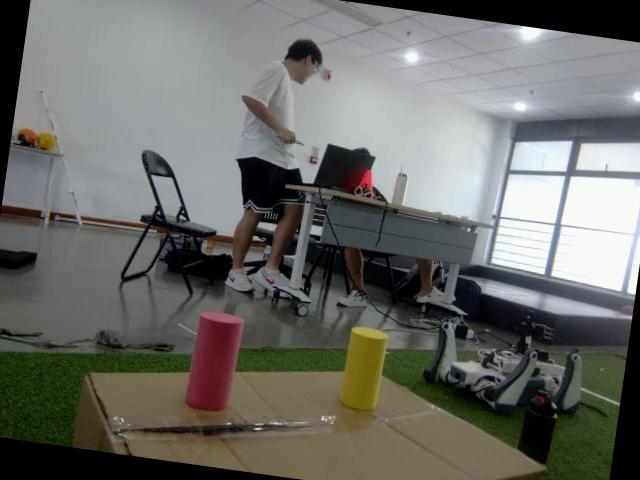red_cylinder: (180, 306, 244, 417)
yellow_cylinder: (336, 322, 391, 413)
